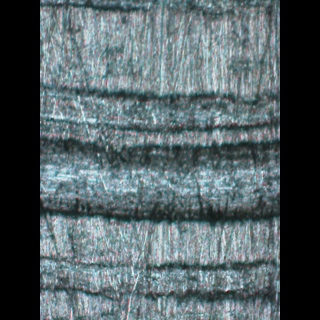d: (40, 85, 279, 226), (40, 252, 278, 314)
